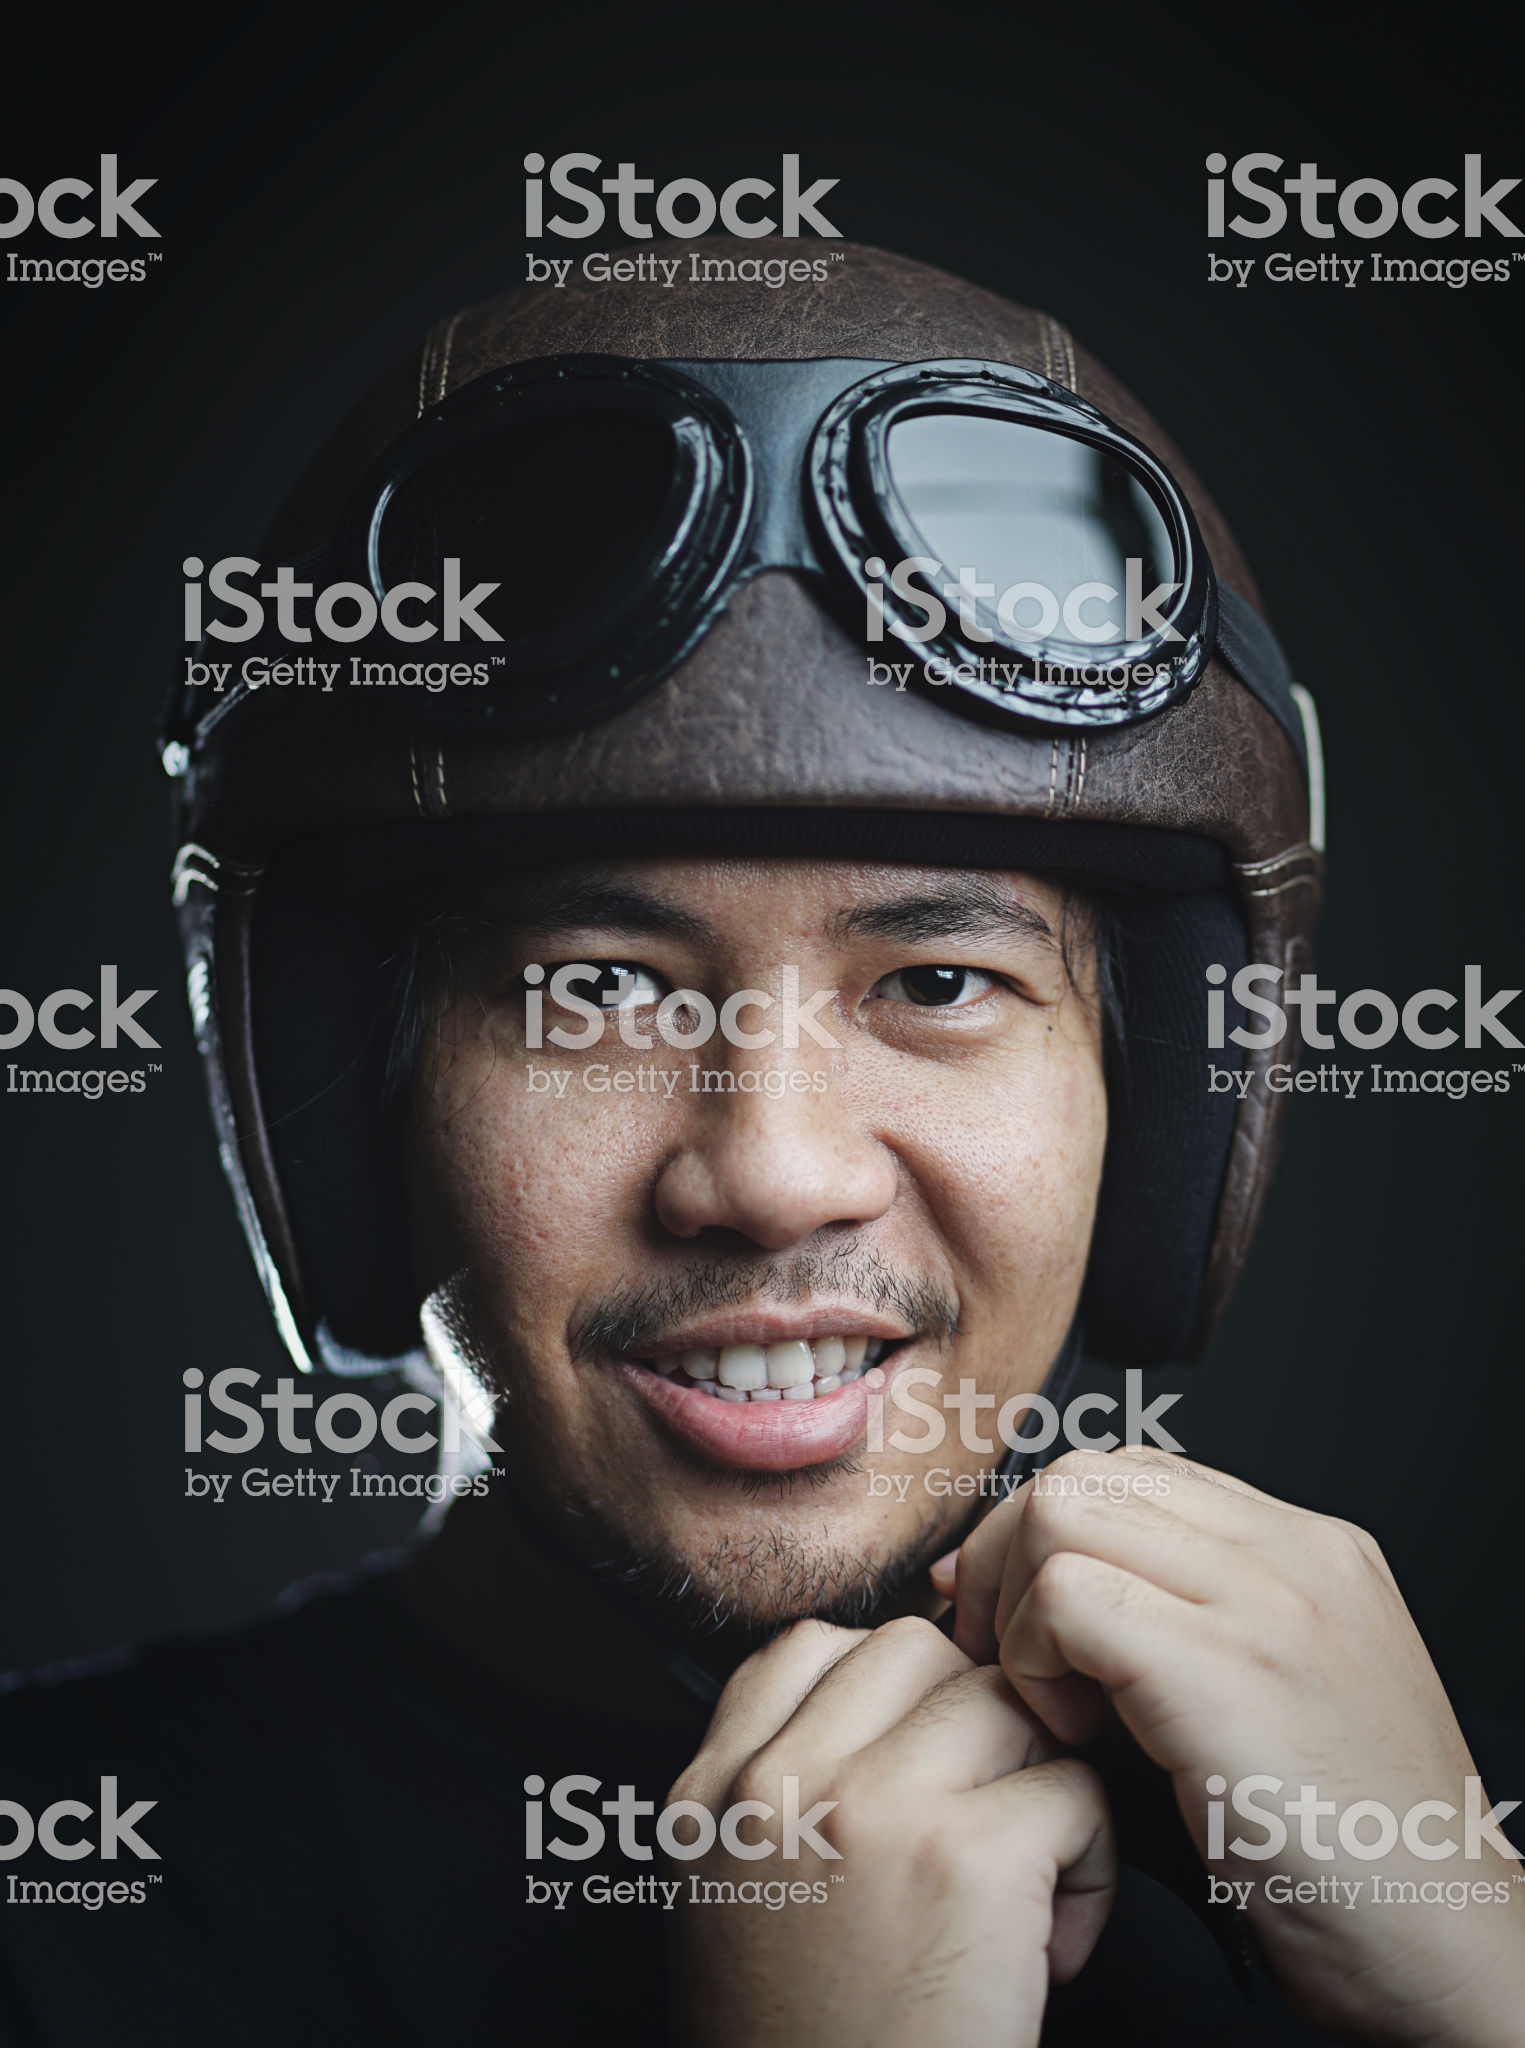helmet: (143, 259, 1381, 1319)
